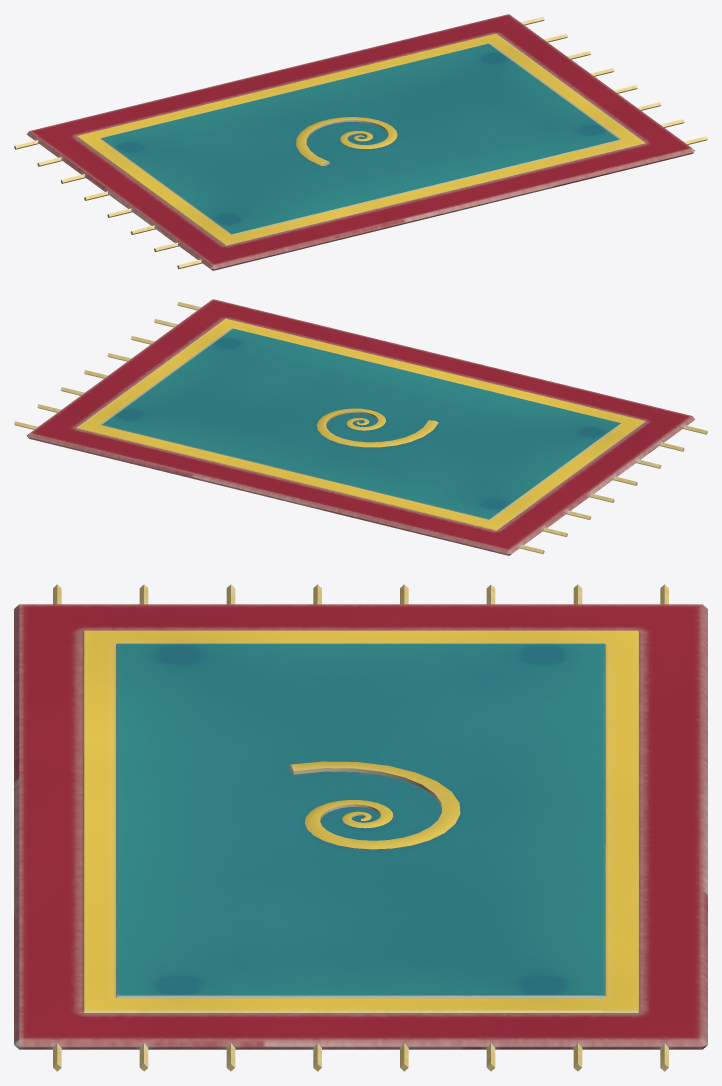
The model's file is rug.glb.
3 views of the same model, one above another, from view 1: azimuth 30°, elevation 25°; view 2: azimuth 150°, elevation 25°; view 3: azimuth 270°, elevation 25° (orthographic). The views are drawn at different scales.
Parts seen in each view (by area): view 1: SM_Rug; view 2: SM_Rug; view 3: SM_Rug.
Boxes of the visible parts, <box> form: SM_Rug: <box>14,14,707,270</box>; SM_Rug: <box>14,299,707,555</box>; SM_Rug: <box>14,584,707,1071</box>.
Bounding box in the file's own units: 2.62 × 0.0433 × 1.6.
Materials: 1 (1 with a texture image).
